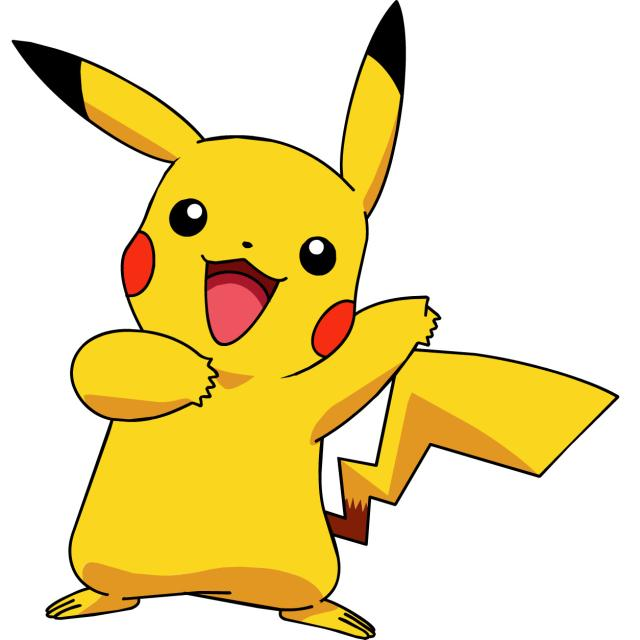Pikachu: (68, 128, 405, 622)
